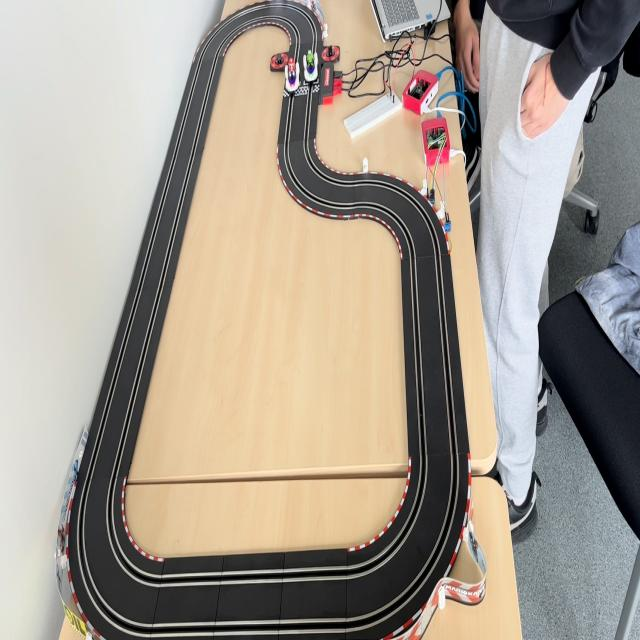mario: (284, 57, 302, 96)
yoshi: (304, 50, 320, 84)
